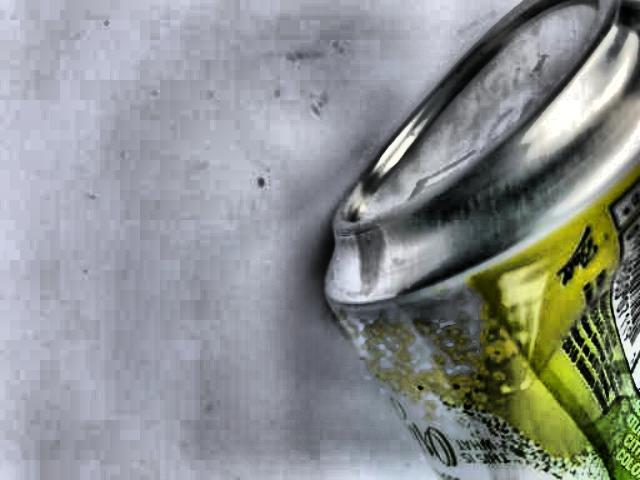Bottles: (318, 9, 639, 472)
